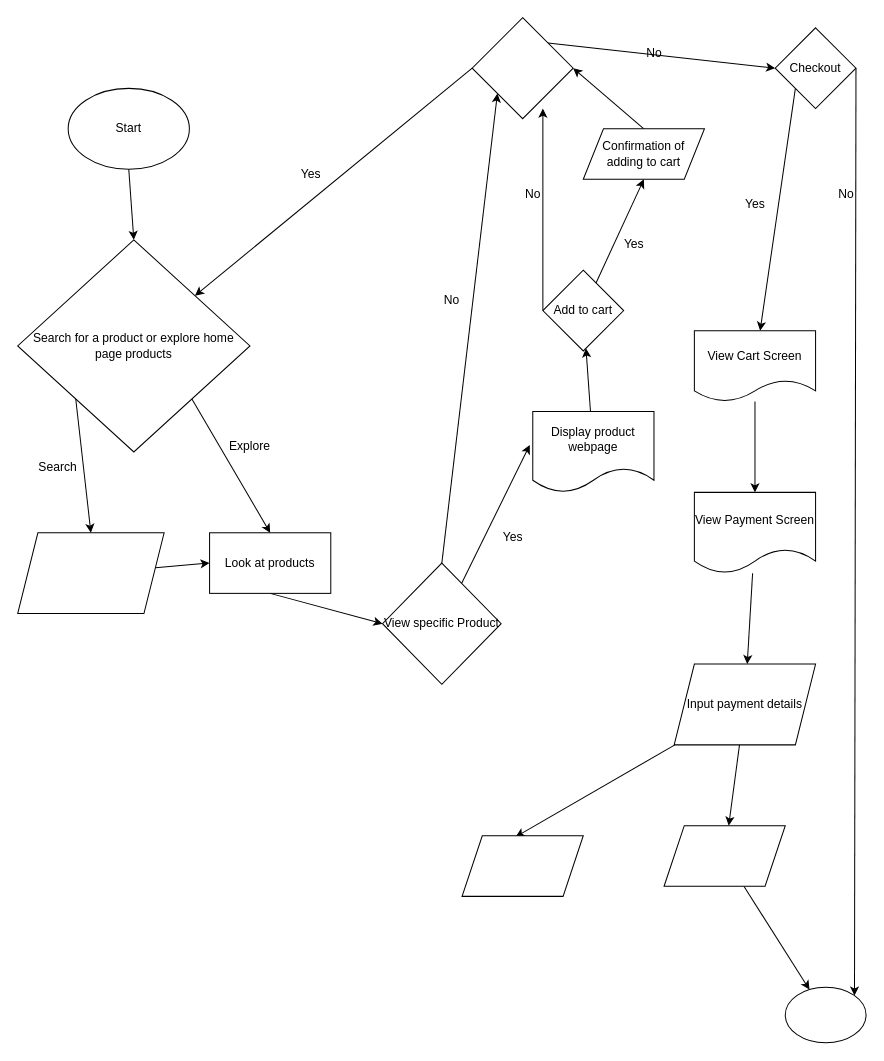
This 884x1061 diagram has some shape labels left out. The centre of each missing label's shape, as x and y in pixels:
"Confirmation of payment" belongs at point 724,855.
"Continue Shopping" belongs at point 522,68.
"Email confimation" belongs at point 522,865.
"End" belongs at point 825,1014.
"website search query" belongs at point 90,573.
